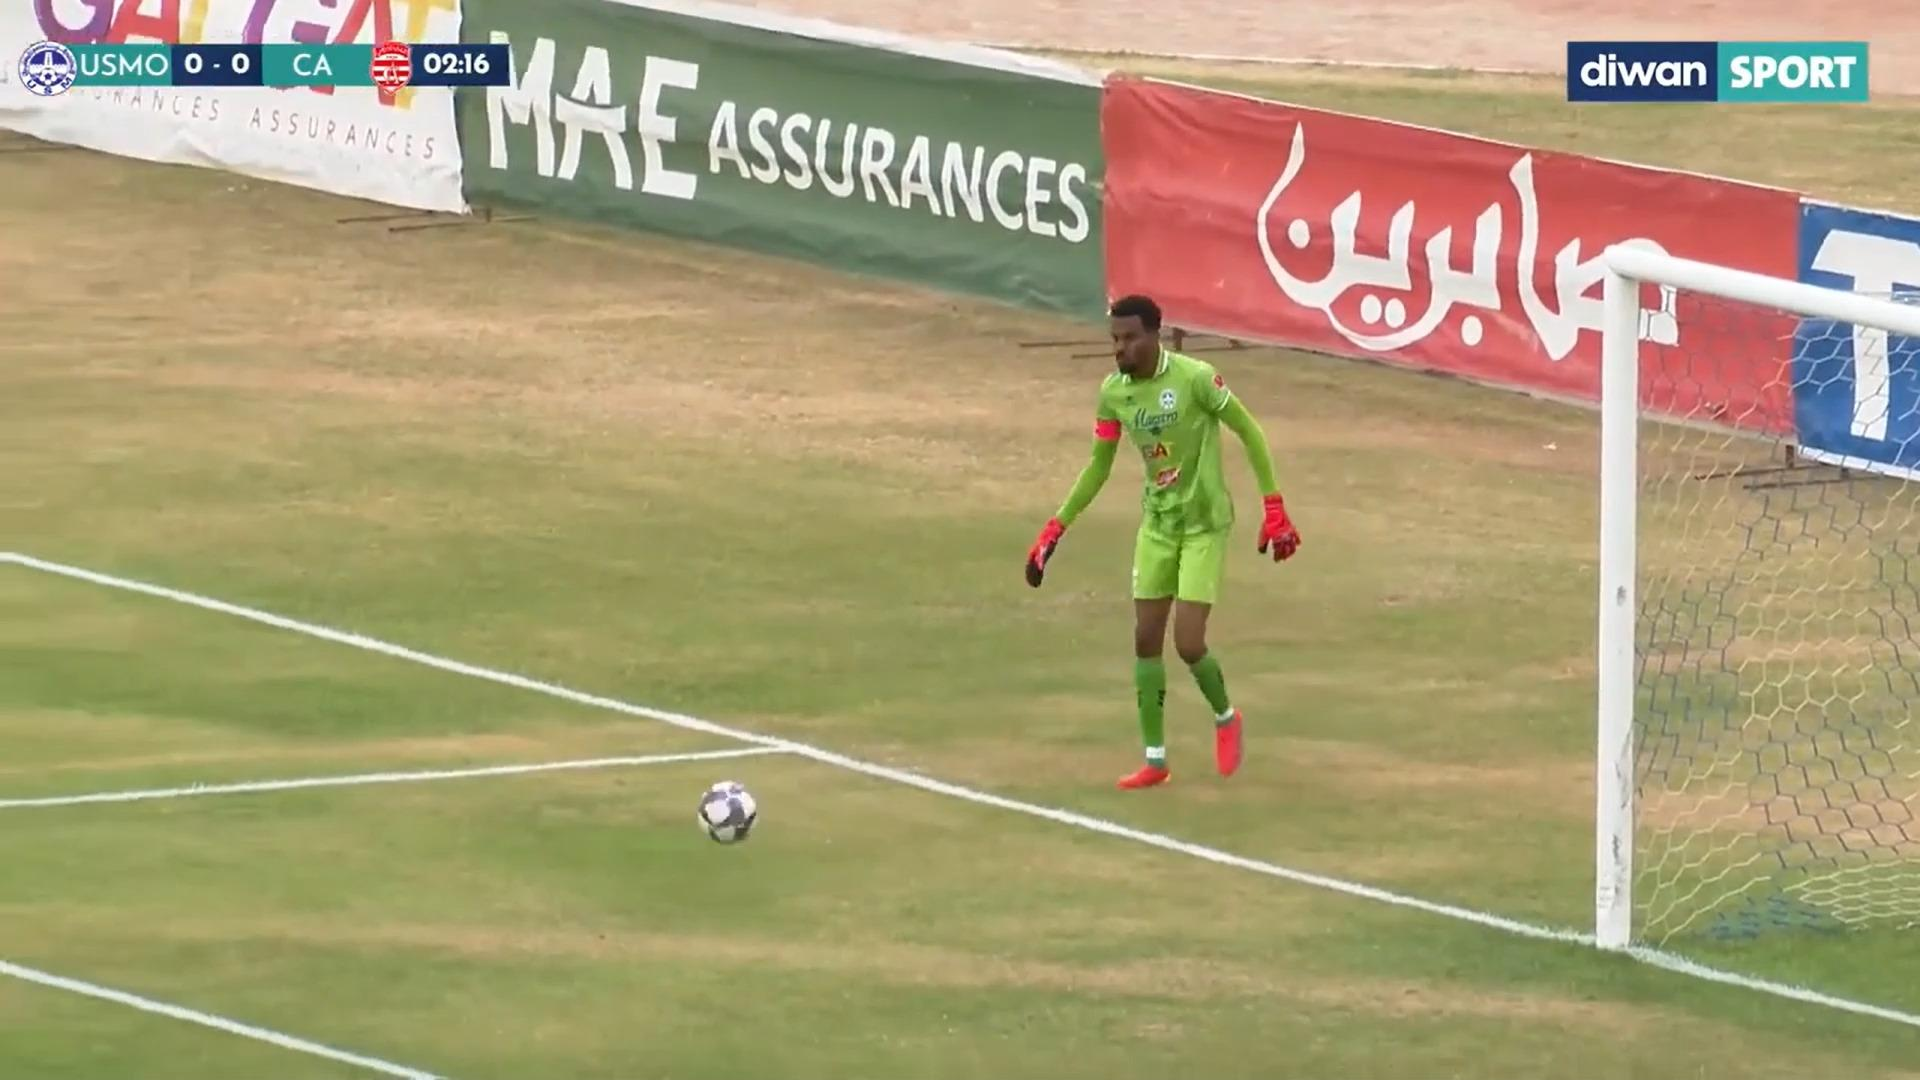ball: (679, 764, 795, 873)
goalkeeper: (1001, 223, 1349, 839)
